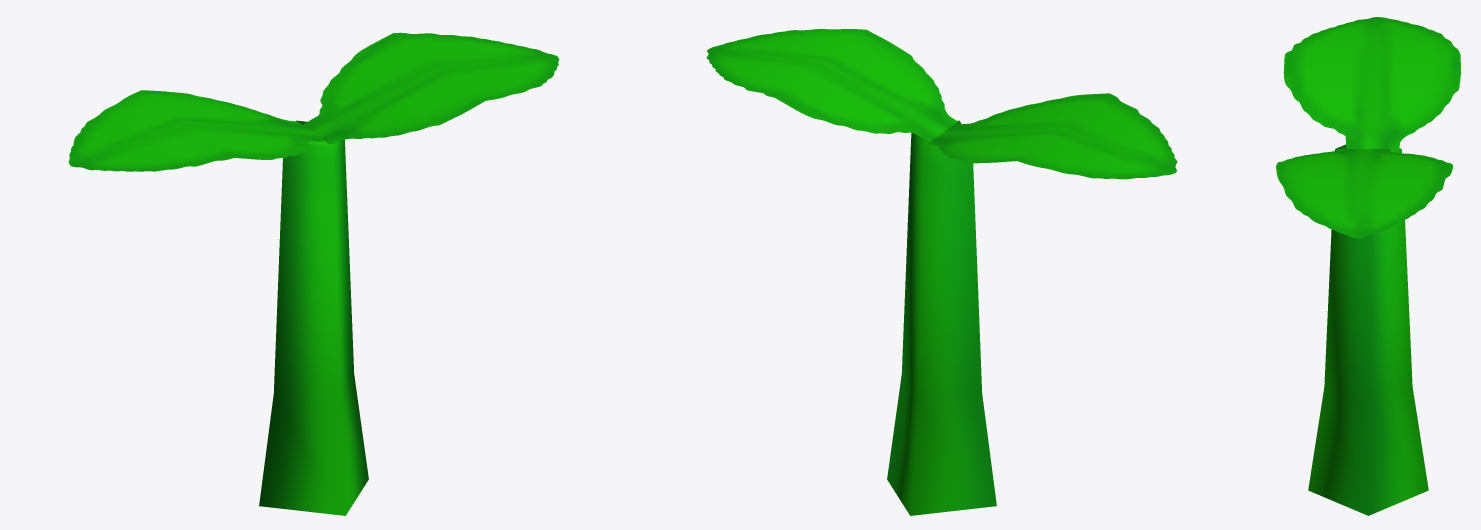
The model's file is Vegetables02_a02.FBX.
The picture shows the model from 3 angles, left to right: view 1: azimuth 30°, elevation 25°; view 2: azimuth 150°, elevation 25°; view 3: azimuth 270°, elevation 25°; orthographic projection. The views are drawn at different scales.
Parts seen in each view (by area): view 1: Vegetables02_a02; view 2: Vegetables02_a02; view 3: Vegetables02_a02.
Part boxes in pixels (<box>): Vegetables02_a02: <box>68,32,559,515</box>; Vegetables02_a02: <box>706,29,1177,515</box>; Vegetables02_a02: <box>1276,17,1461,515</box>.
Size of the model in its own units: 42.23 by 32.37 by 15.3.
1 material, 1 textured.
